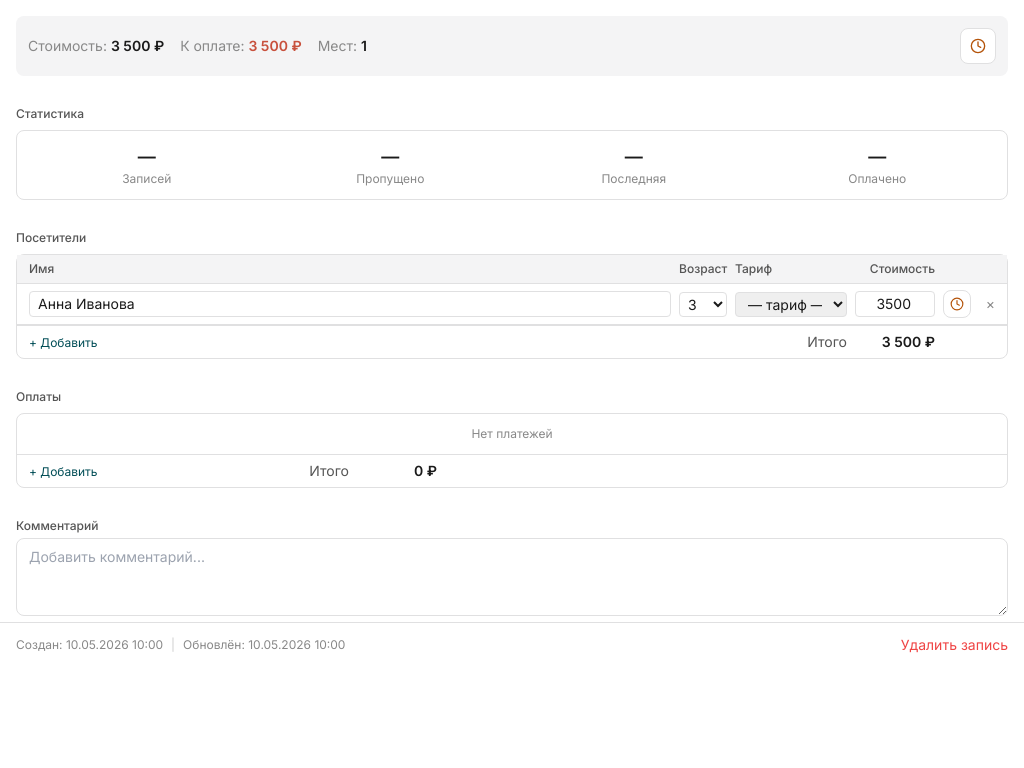
Scenario: ClientTab — layout & features › renders status picker with all statuses
Click the button with test id "visit-v1-status-trigger". click: (957, 304)
box: [943,290,971,318]
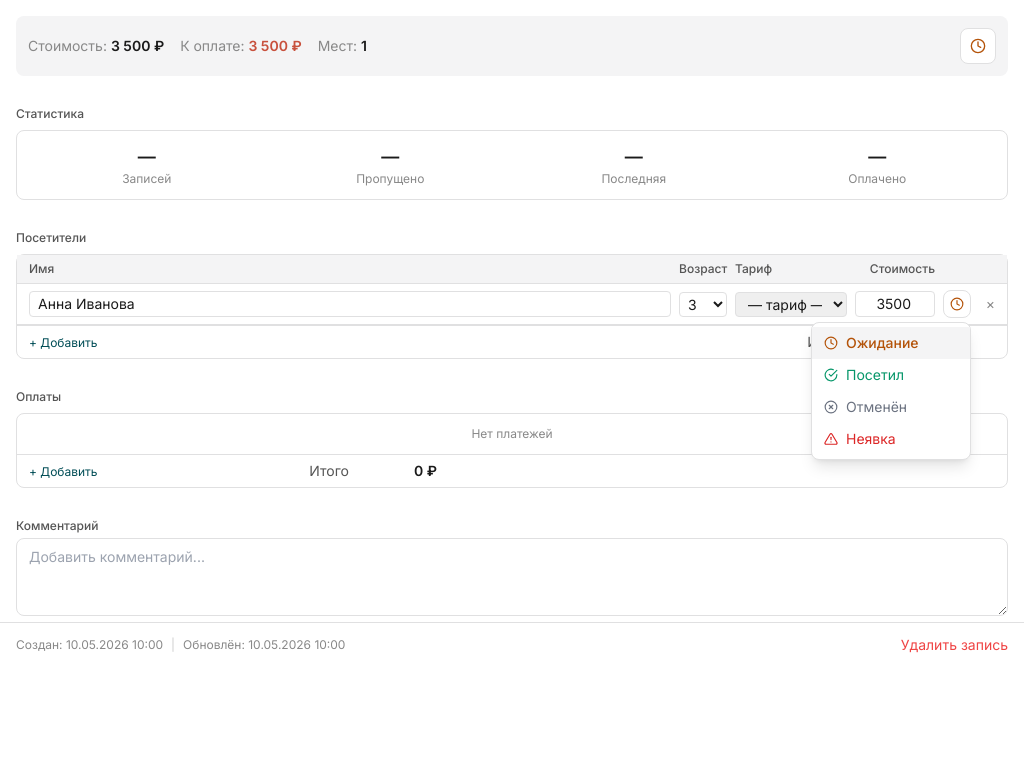
Now the list with test id "visit-v1-status-popover" is shown, box [811,322,971,460]
Now the option with test id "visit-v1-status-option-waiting" is shown, box [812,327,970,359]
Now the option with test id "visit-v1-status-option-visited" is shown, box [812,359,970,391]
